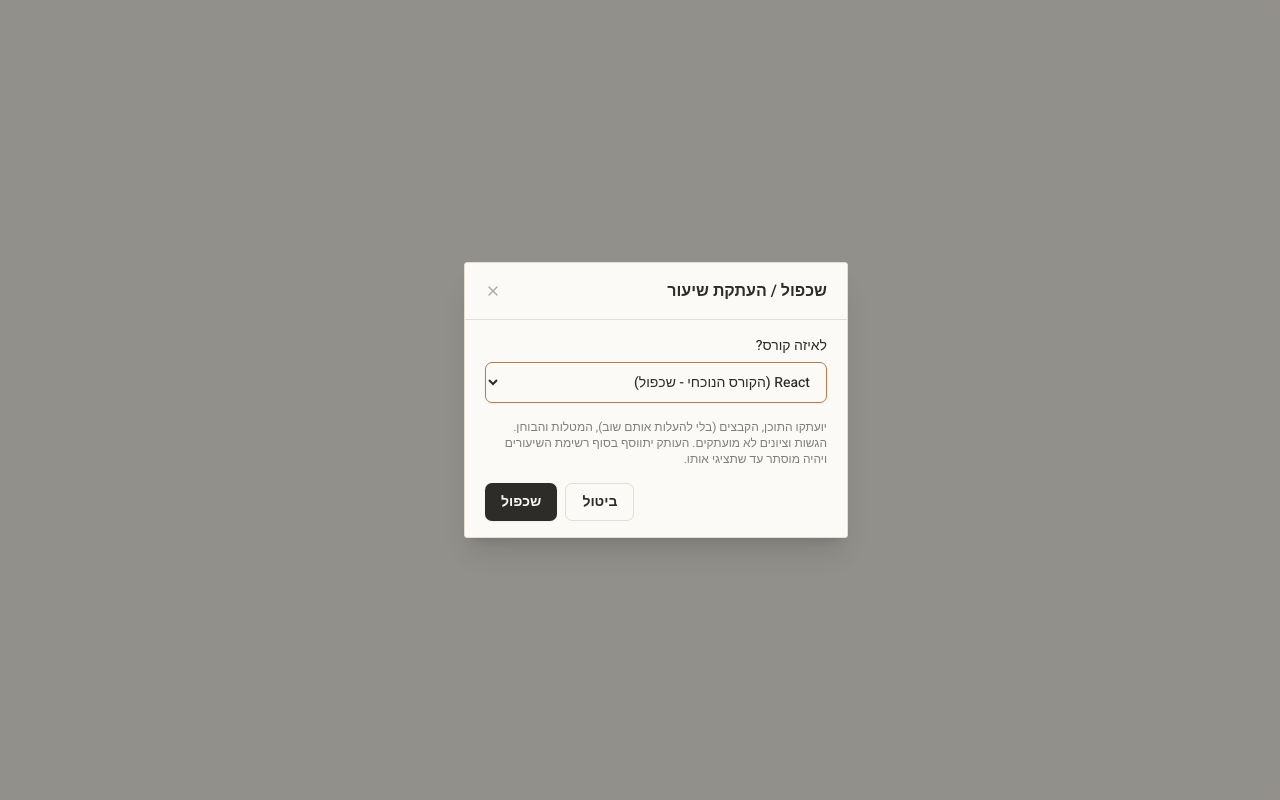
Test: LessonCopyModal › tells the teacher when copied assignments lost a deadline that already passed
The image size is (1280, 800).
Click the button "שכפול" at (521, 502), box [485, 483, 557, 521]
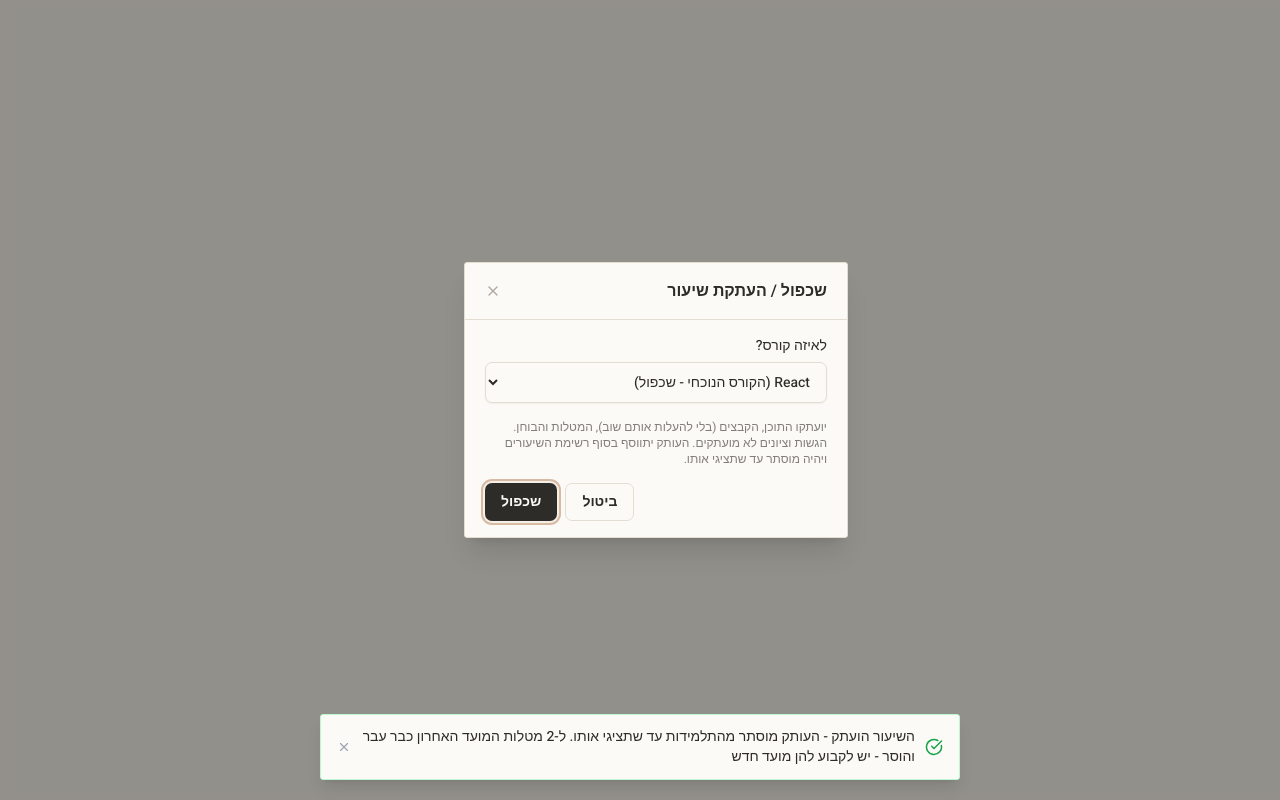
Expected: the text "ל-2 מטלות המועד האחרון כבר עבר והוסר" is shown, [363, 726, 915, 767]
